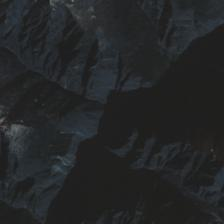landslides: (51, 156, 77, 173), (50, 163, 71, 177), (61, 131, 89, 141)
